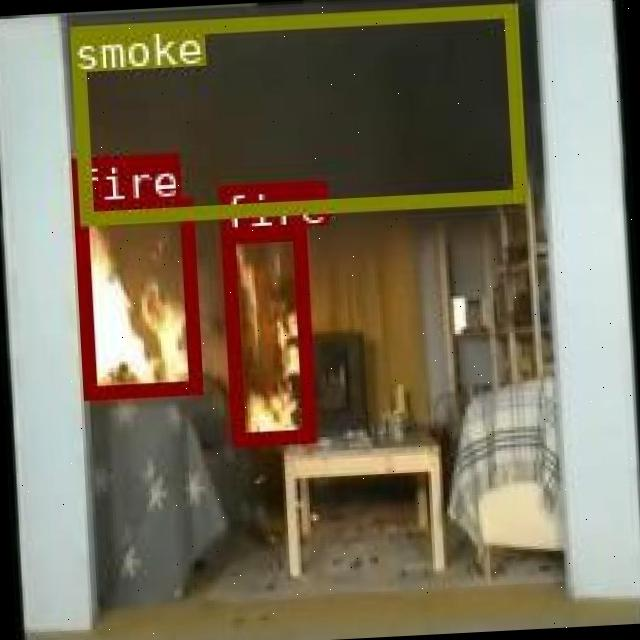fire: (72, 198, 200, 396), (219, 226, 315, 445)
smoke: (69, 2, 525, 222)
